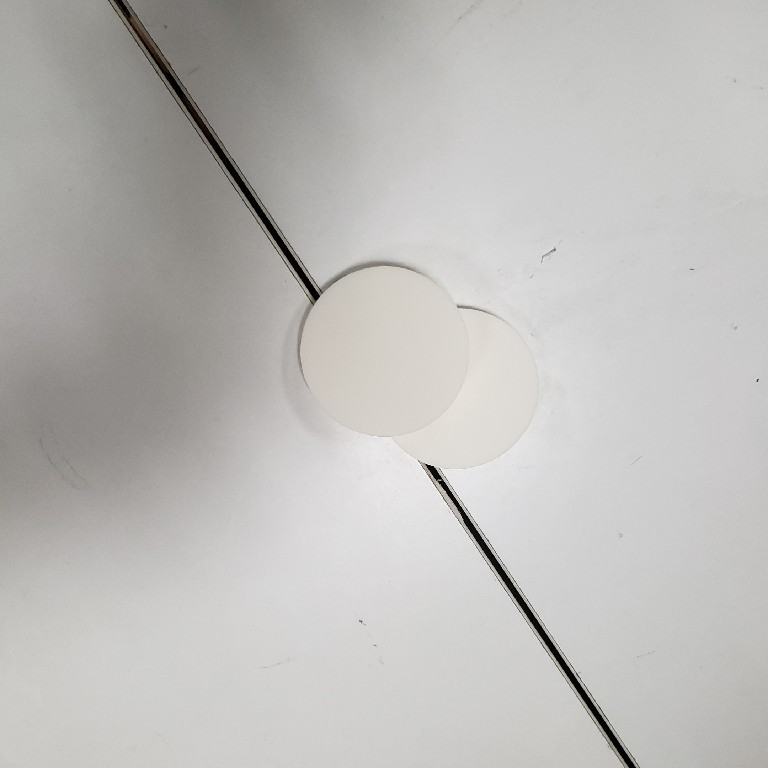ceramics: (292, 249, 544, 473)
